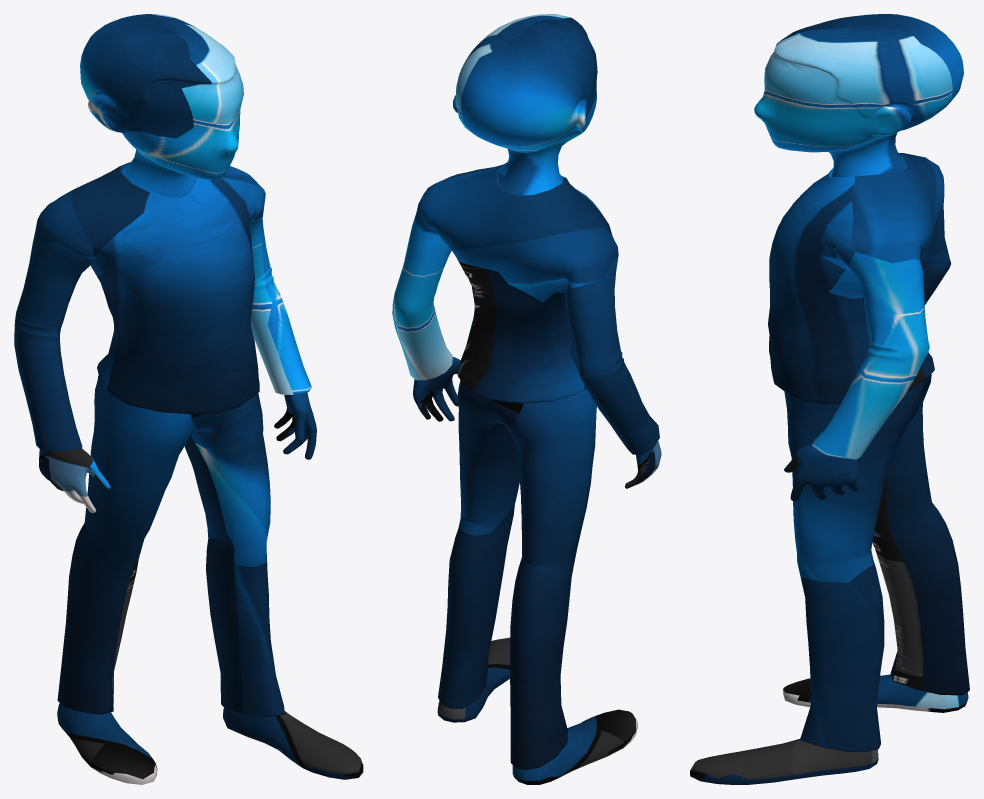
The model's file is people.gltf.
3 views of the same model, side by side, from view 1: azimuth 30°, elevation 25°; view 2: azimuth 150°, elevation 25°; view 3: azimuth 270°, elevation 25° (orthographic).
Visible parts, largest first — view 1: mesh_id27; view 2: mesh_id27; view 3: mesh_id27.
Part boxes in pixels (x1=…): mesh_id27: x1=14, y1=14, x2=363, y2=784; mesh_id27: x1=392, y1=14, x2=661, y2=784; mesh_id27: x1=690, y1=14, x2=969, y2=784.
Bounding box in the file's own units: 0.0825 × 0.2198 × 0.0794.
Materials: 1 (1 with a texture image).
